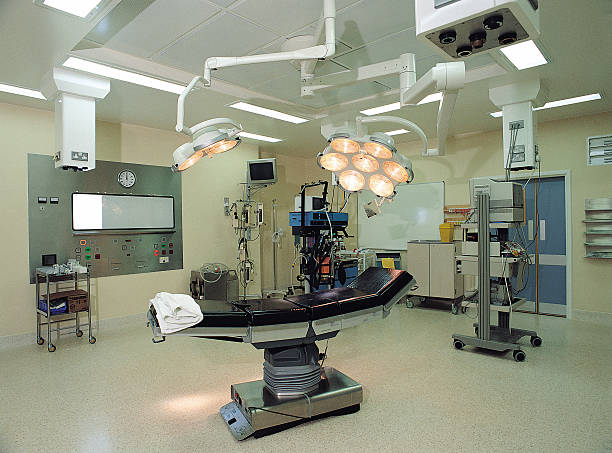bedside_monitor: (247, 157, 277, 186)
counter: (405, 235, 462, 302)
electrosurgical_unit: (287, 209, 351, 230)
medical_waste_container: (438, 221, 457, 245)
operating_bed: (147, 266, 416, 442)
surgical_light: (317, 134, 413, 199), (172, 128, 242, 171)
utility_cart: (35, 265, 97, 353)
